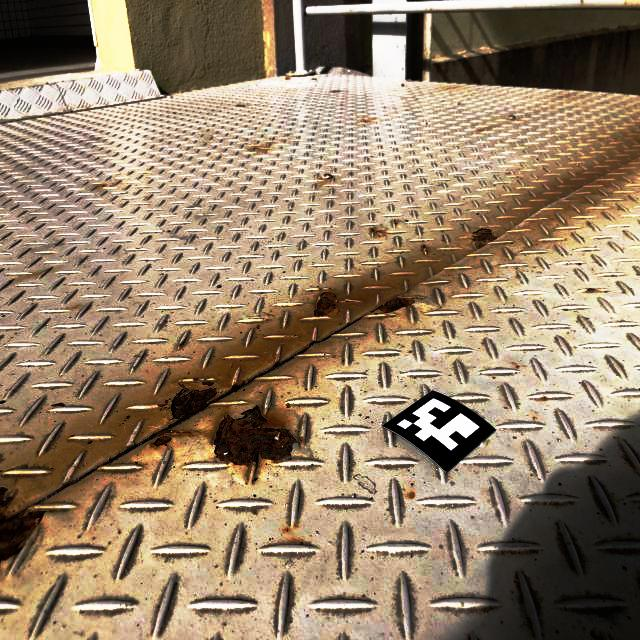Corrosion: (212, 403, 300, 472), (0, 486, 45, 570), (170, 385, 219, 425), (369, 295, 418, 315), (151, 428, 192, 449), (313, 290, 339, 316), (472, 226, 500, 250), (191, 377, 214, 388), (226, 382, 242, 397), (370, 226, 383, 236), (587, 287, 599, 292)
